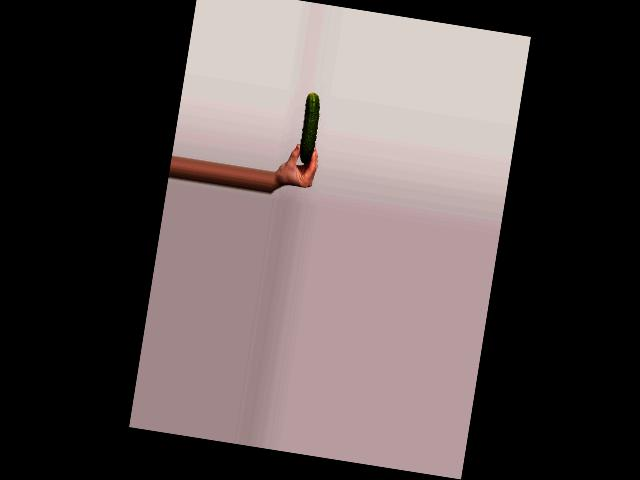cucumber: (297, 92, 322, 164)
